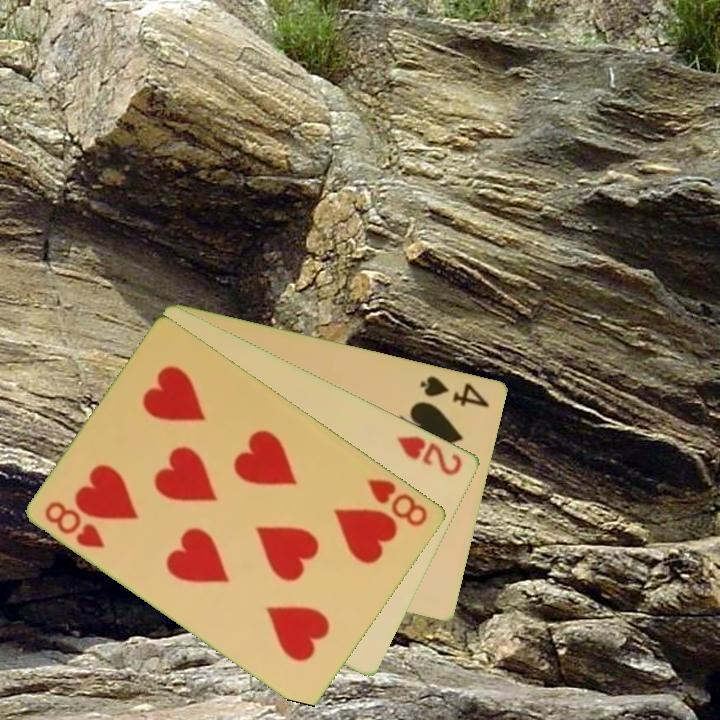2h: (393, 432, 466, 479)
4s: (417, 372, 493, 410)
8h: (364, 475, 432, 530), (41, 497, 109, 551)
